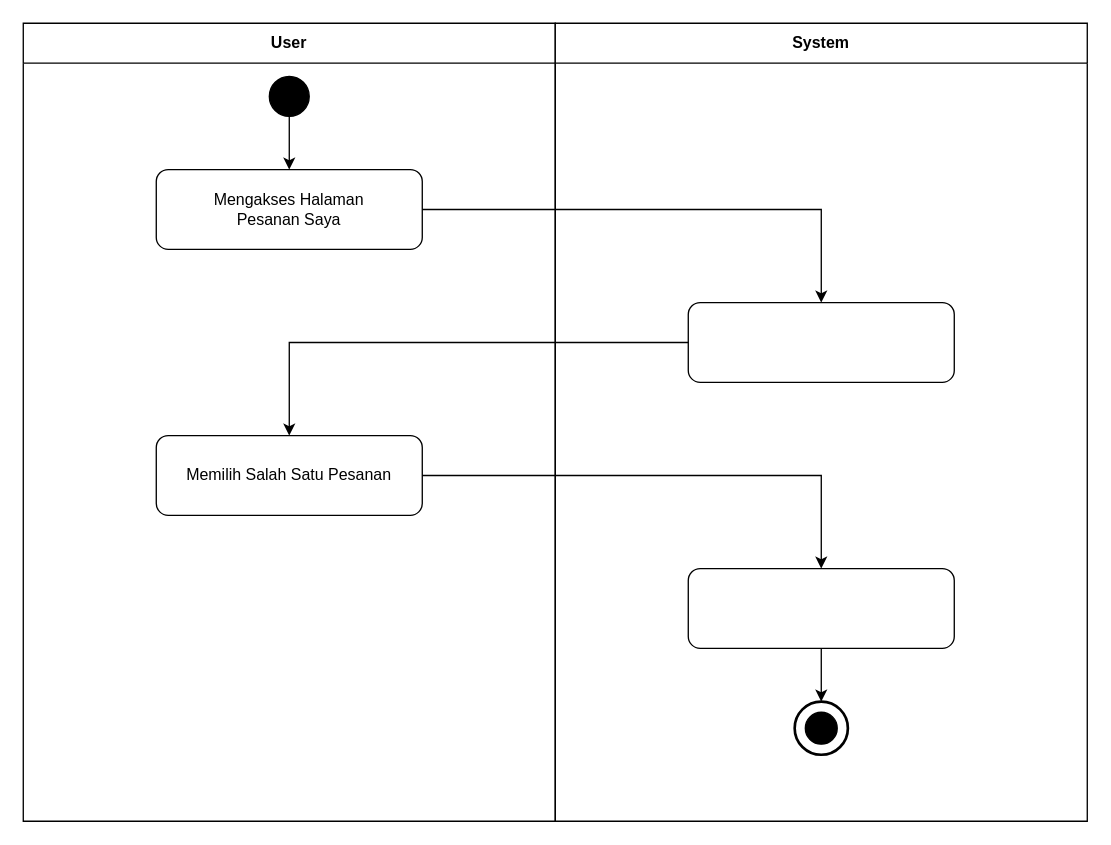
Some shapes in this 1111 by 845 pixel diagram are drawn without their labels. The centre of each missing label's shape, as x and y in pixels:
"Menampilkan Daftar Pesanan & Status Singkat" belongs at point 820,341.
"Menampilkan Detail Pesanan & Status Lengkap" belongs at point 820,607.
